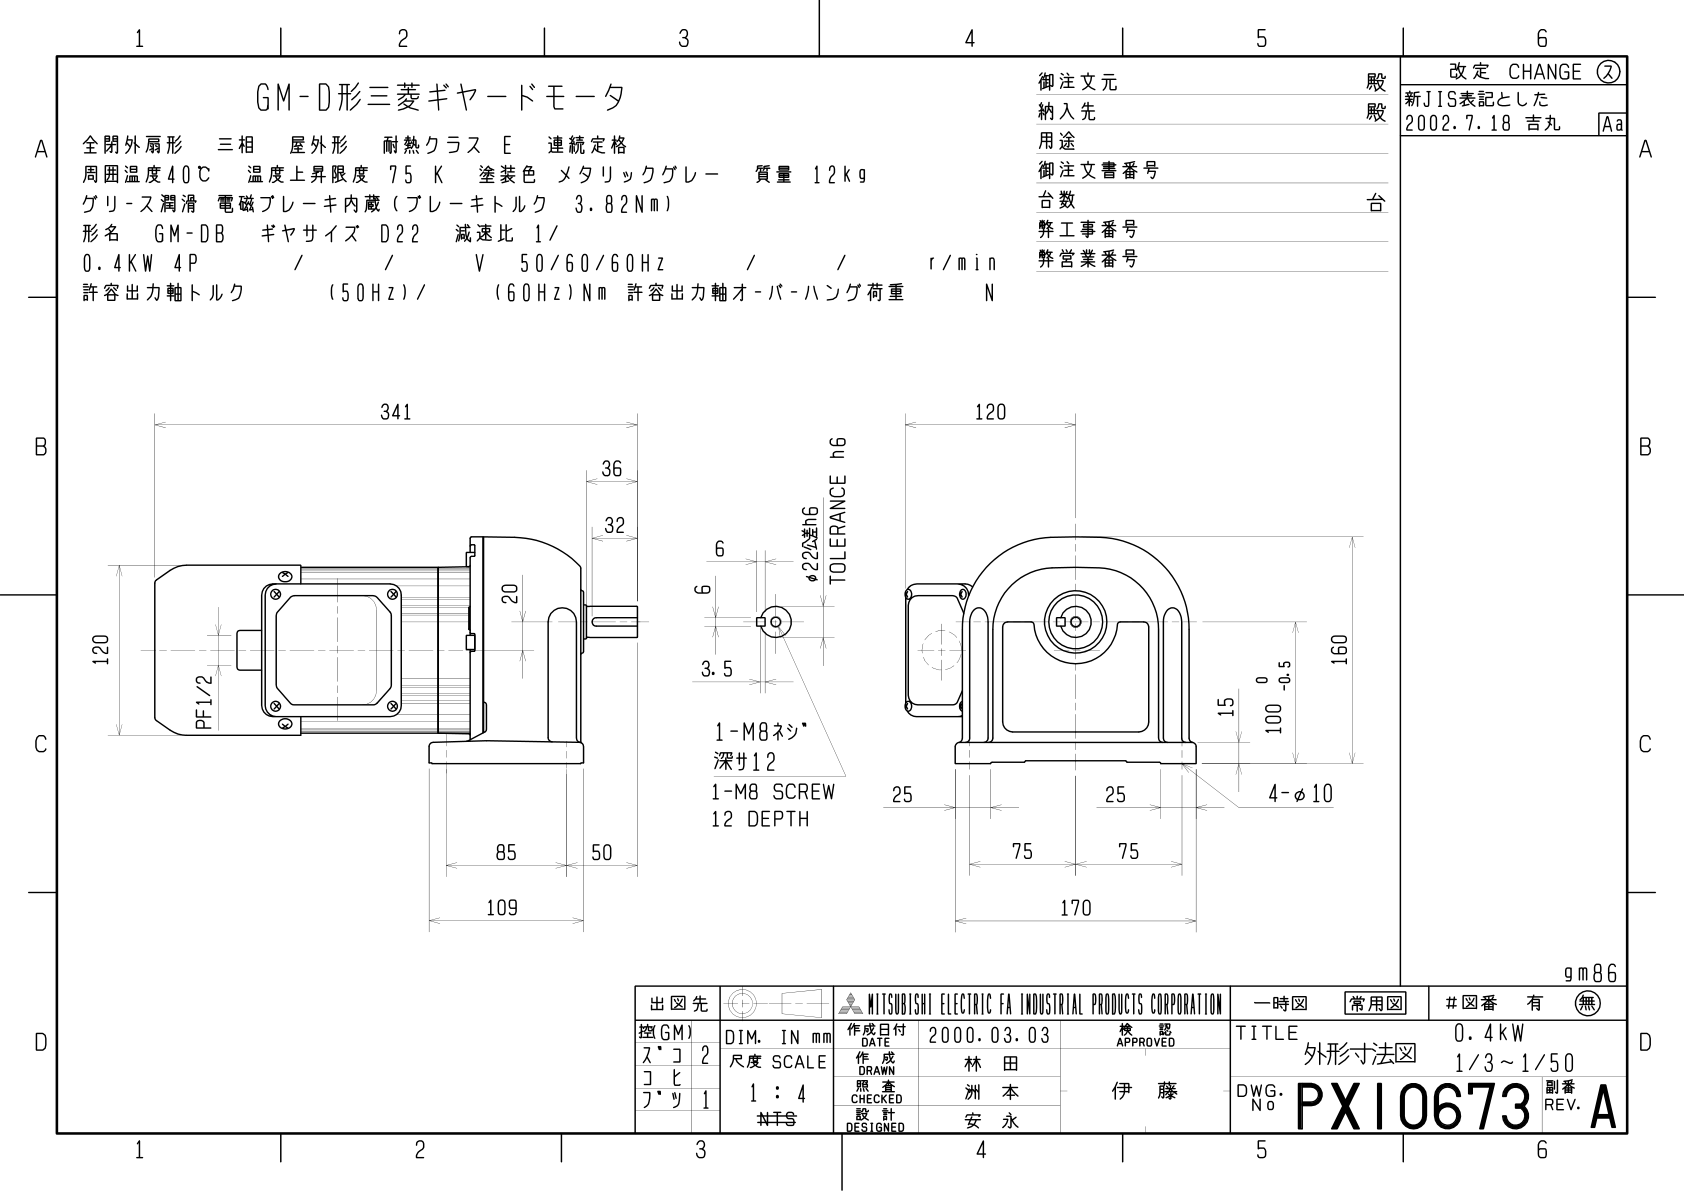GM_D_屋外＿三相_脚: (67, 373, 1383, 959)
